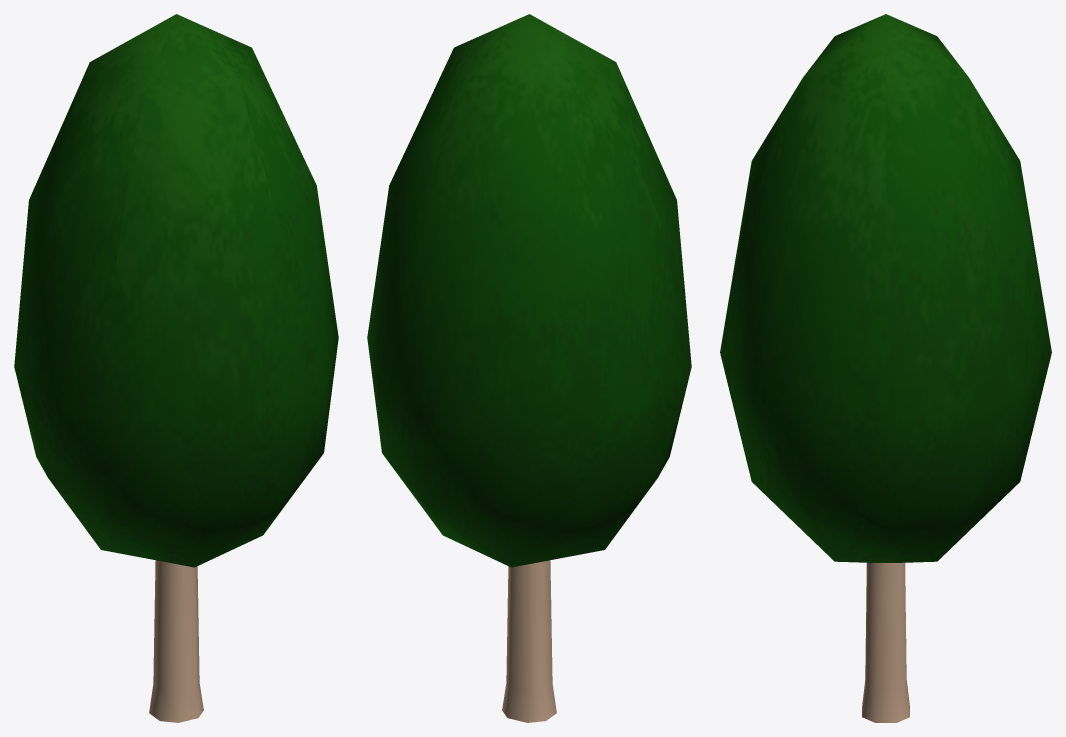
Rendered from Tree_Cedar_1.fbx.
3 renders of one model, left to right at view 1: azimuth 30°, elevation 25°; view 2: azimuth 150°, elevation 25°; view 3: azimuth 270°, elevation 25°, orthographic.
Visible parts, largest first — view 1: Icosphere.036, Cube.086; view 2: Icosphere.036, Cube.086; view 3: Icosphere.036, Cube.086.
Boxes of the visible parts, x1,y1,x2,y2 form: Icosphere.036: (14,14,338,567); Cube.086: (149,560,203,722); Icosphere.036: (367,14,691,567); Cube.086: (502,560,556,722); Icosphere.036: (720,14,1051,562); Cube.086: (862,562,909,722).
Size of the model in its own units: 149 by 363 by 156.
